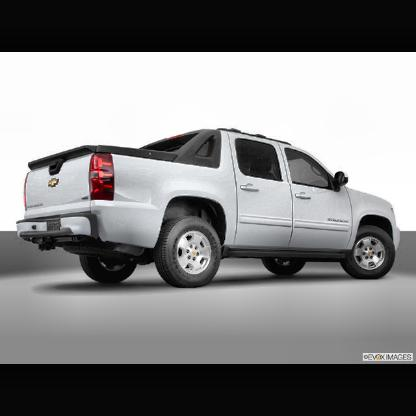Chevrolet Avalanche Crew Cab 2012: (16, 128, 402, 291)
